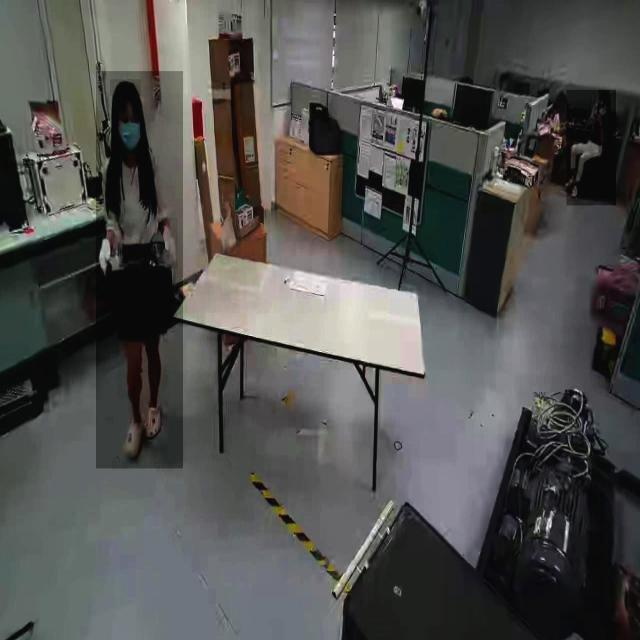face_mask: (116, 97, 144, 157), (598, 101, 610, 119)
hand_glove: (154, 218, 178, 268), (96, 231, 120, 280)
head_nohelmet: (110, 79, 142, 97), (598, 90, 610, 100)
person: (96, 71, 184, 469), (566, 90, 616, 206)
